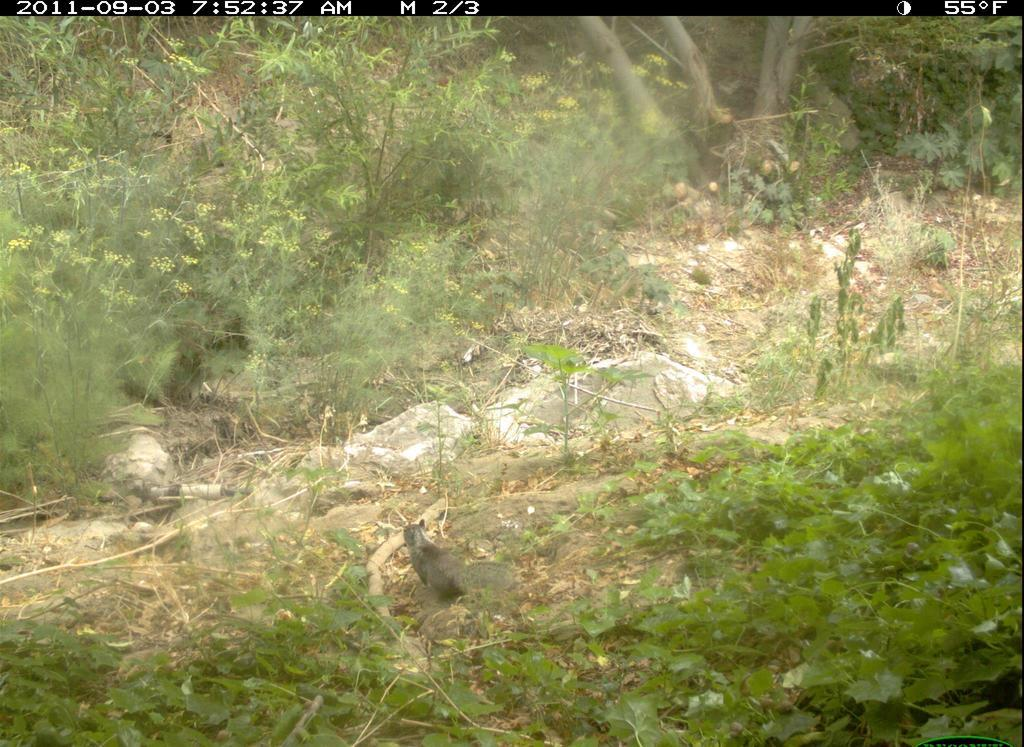squirrel: (397, 515, 498, 620)
